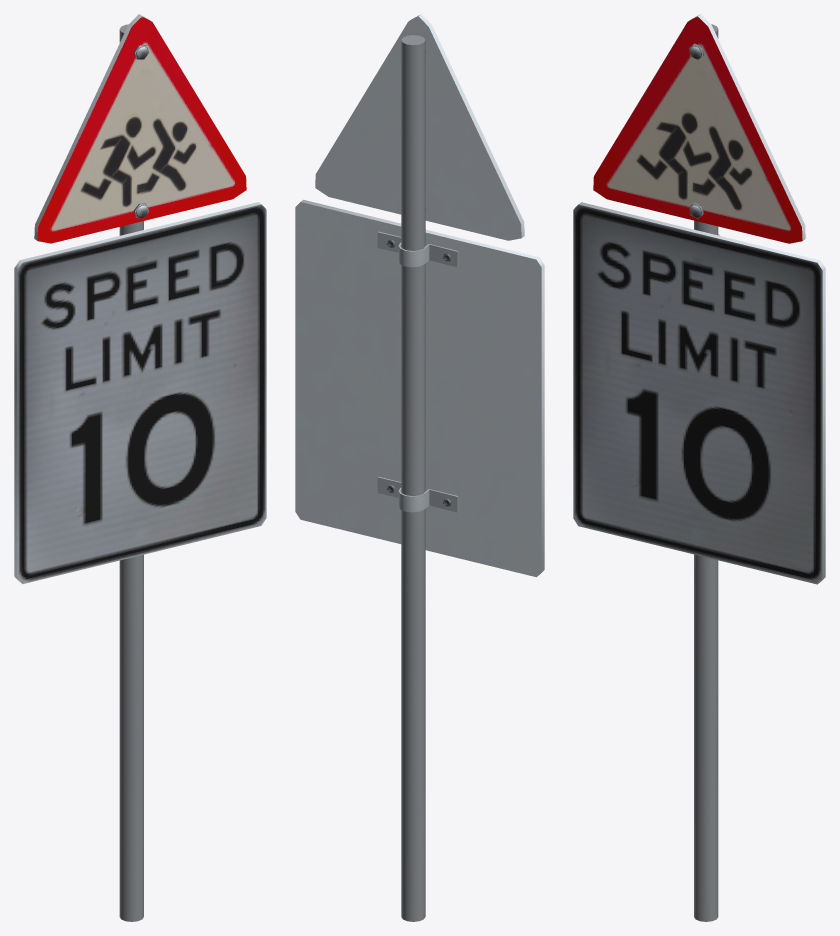
The model's file is StreetSigns_19.fbx.
3 views of the same model, side by side, from view 1: azimuth 30°, elevation 25°; view 2: azimuth 150°, elevation 25°; view 3: azimuth 330°, elevation 25° (orthographic).
Parts seen in each view (by area): view 1: StreetSigns_19; view 2: StreetSigns_19; view 3: StreetSigns_19.
Part boxes in pixels (left/top/right/bottom): StreetSigns_19: left=14, top=14, right=266, bottom=921; StreetSigns_19: left=295, top=14, right=544, bottom=921; StreetSigns_19: left=573, top=14, right=825, bottom=921.
Size of the model in its own units: 1.18 by 4.09 by 0.1483.
